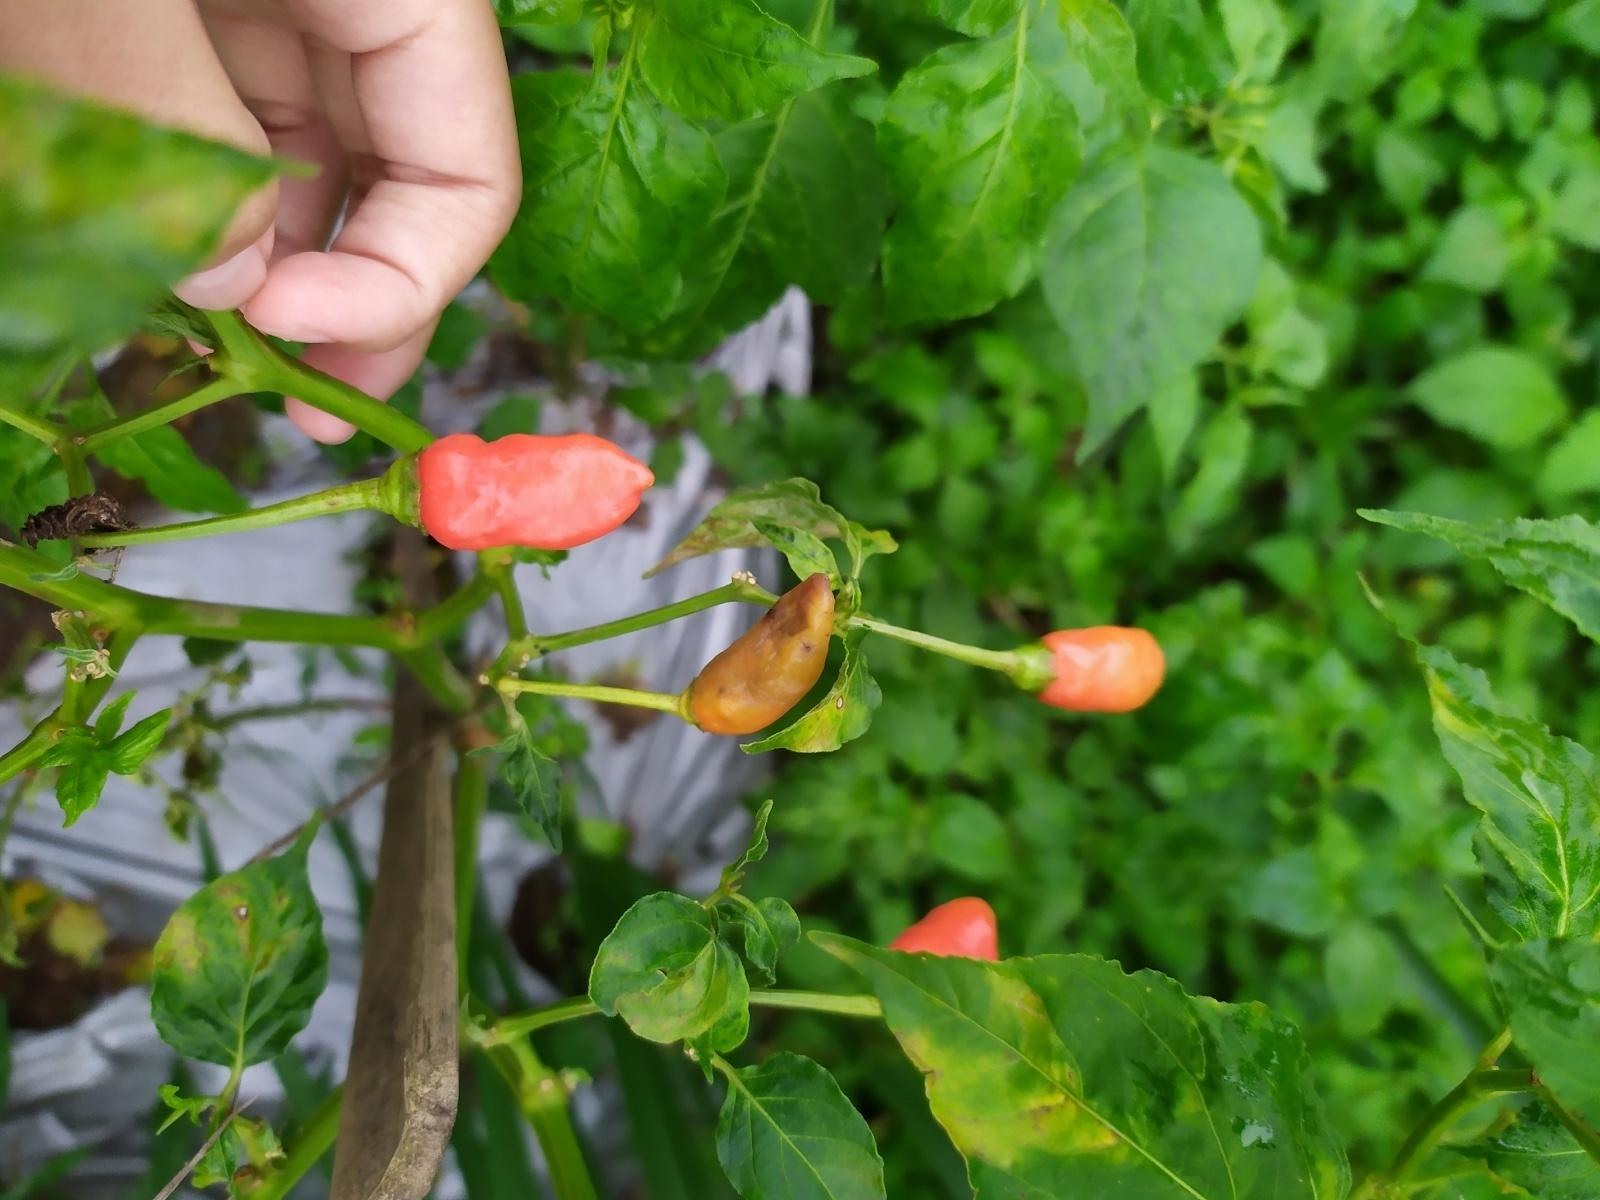cabai_normal: (418, 432, 657, 552), (1033, 625, 1166, 713)
lalat_buah: (685, 571, 834, 736)
